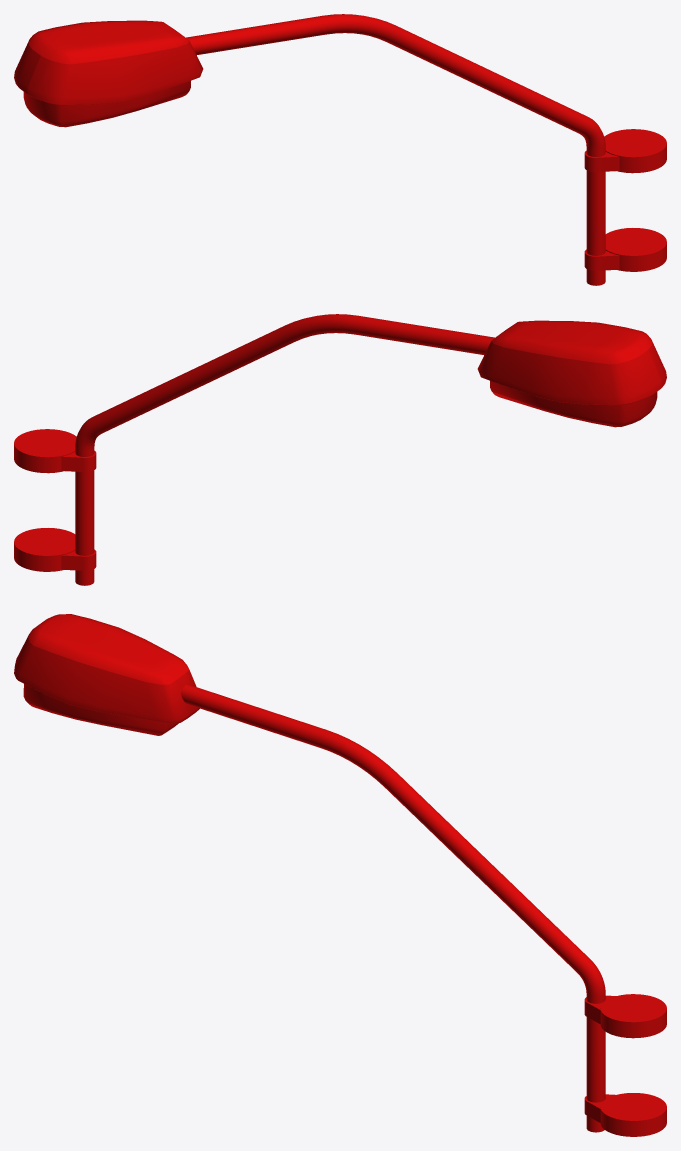
3 renders of one model, top to bottom at view 1: azimuth 30°, elevation 25°; view 2: azimuth 150°, elevation 25°; view 3: azimuth 330°, elevation 25°, orthographic.
Parts seen in each view (by area): view 1: Mesh; view 2: Mesh; view 3: Mesh.
Part boxes in pixels (bbox=[...]): Mesh: bbox=[14, 14, 666, 285]; Mesh: bbox=[14, 314, 666, 585]; Mesh: bbox=[14, 614, 666, 1136].
Bounding box in the file's own units: 3.13 × 1.75 × 0.4512.
